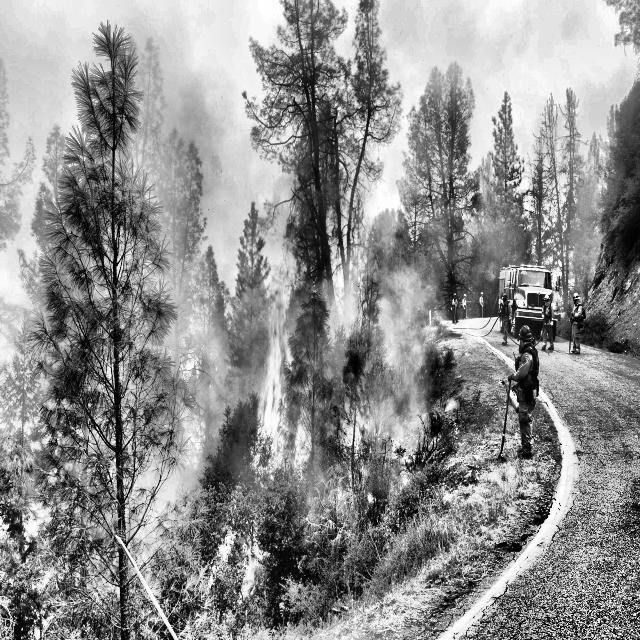fire: (160, 204, 390, 596)
